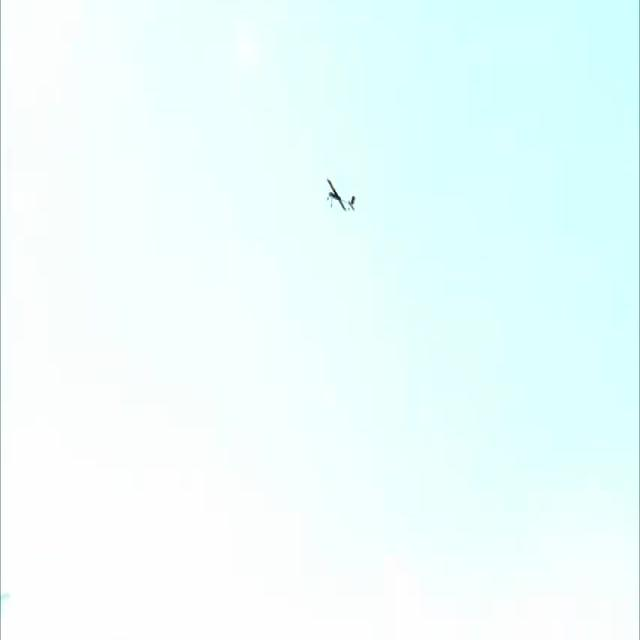iha: (325, 178, 356, 214)
